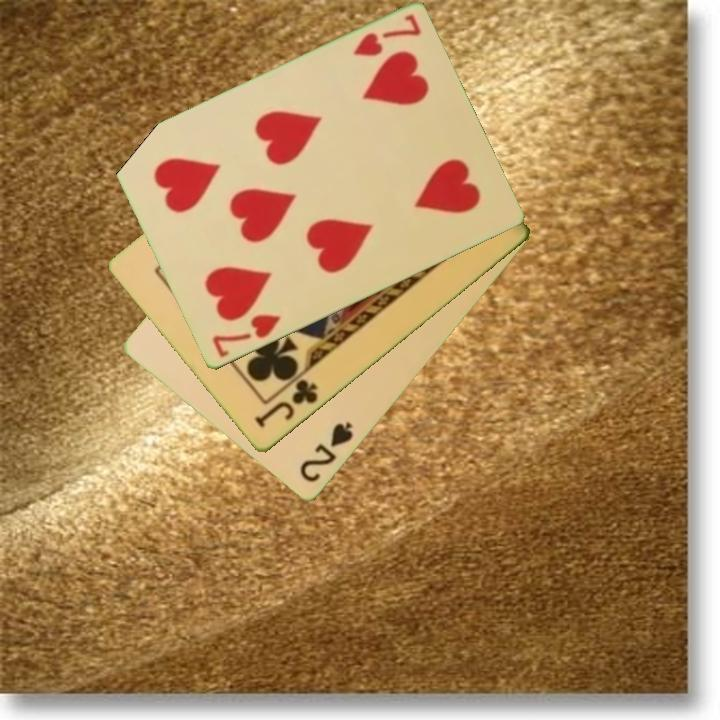2s: (296, 419, 357, 486)
7h: (208, 311, 284, 361), (349, 11, 424, 60)
Jc: (251, 376, 321, 432)
